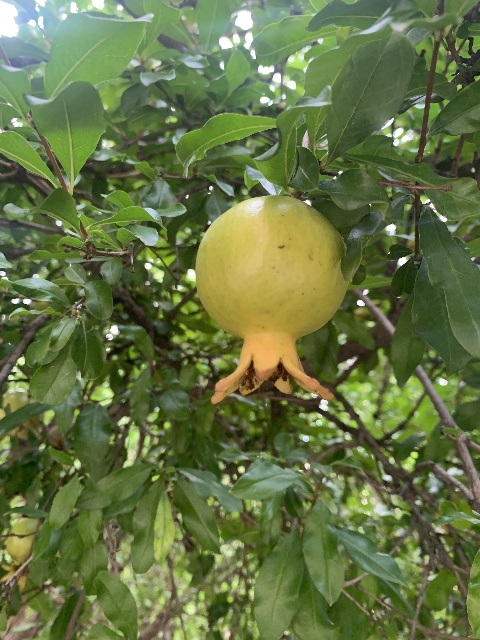mid-growth: (194, 194, 349, 405), (0, 518, 38, 590)
